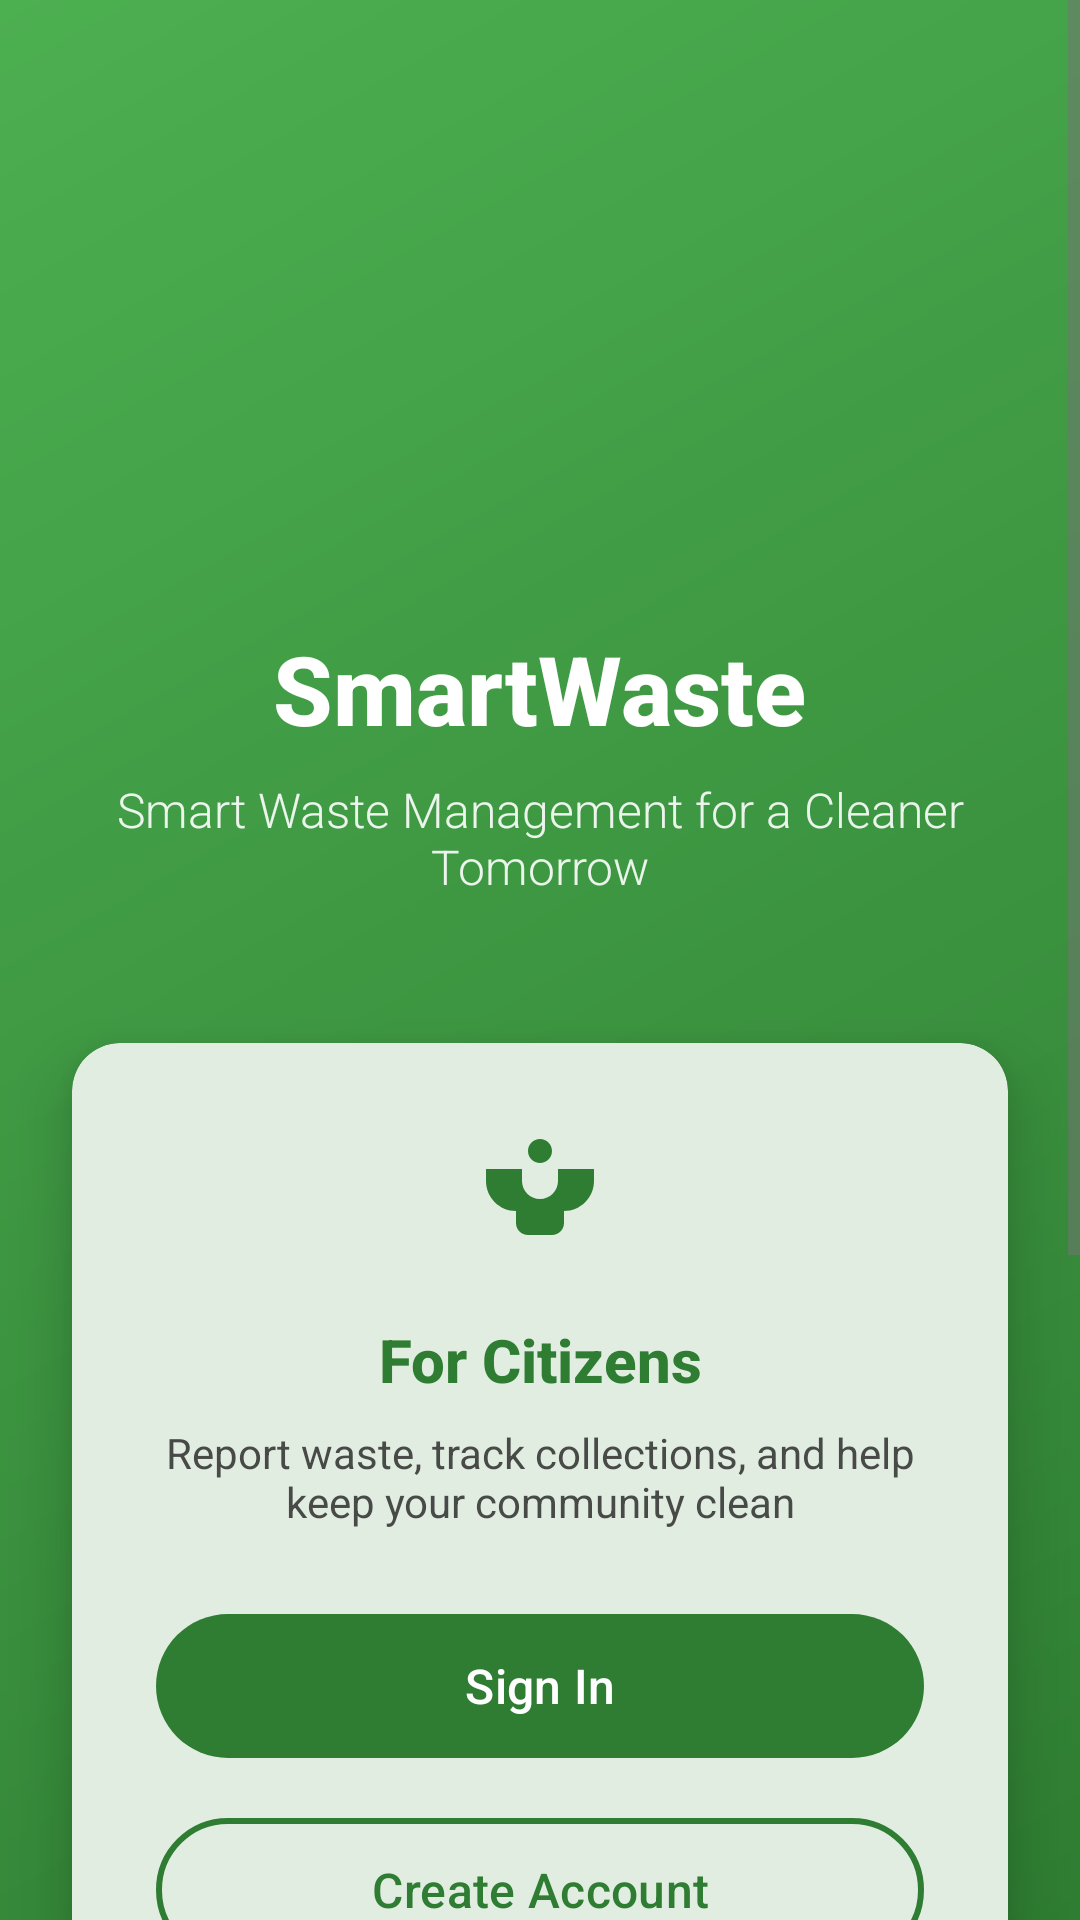

Named icons in this screenshot (1080×1920) and their centers, point (x, y):
profile: point (540, 1187)
